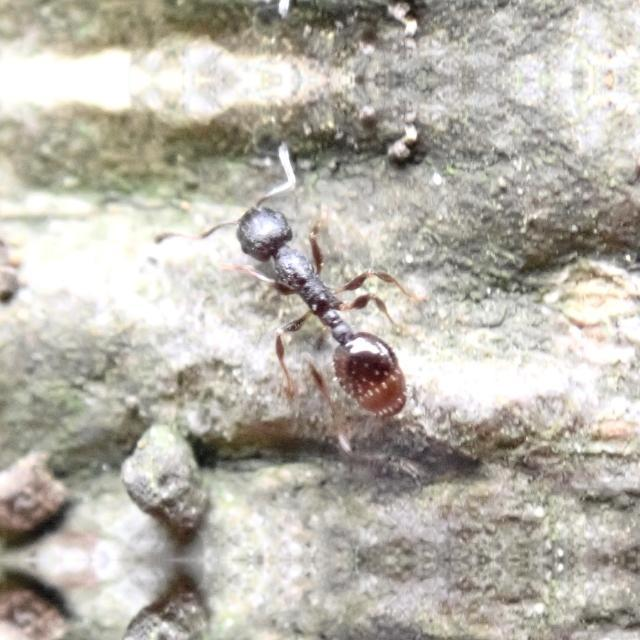Temnothorax: (184, 166, 450, 438)
